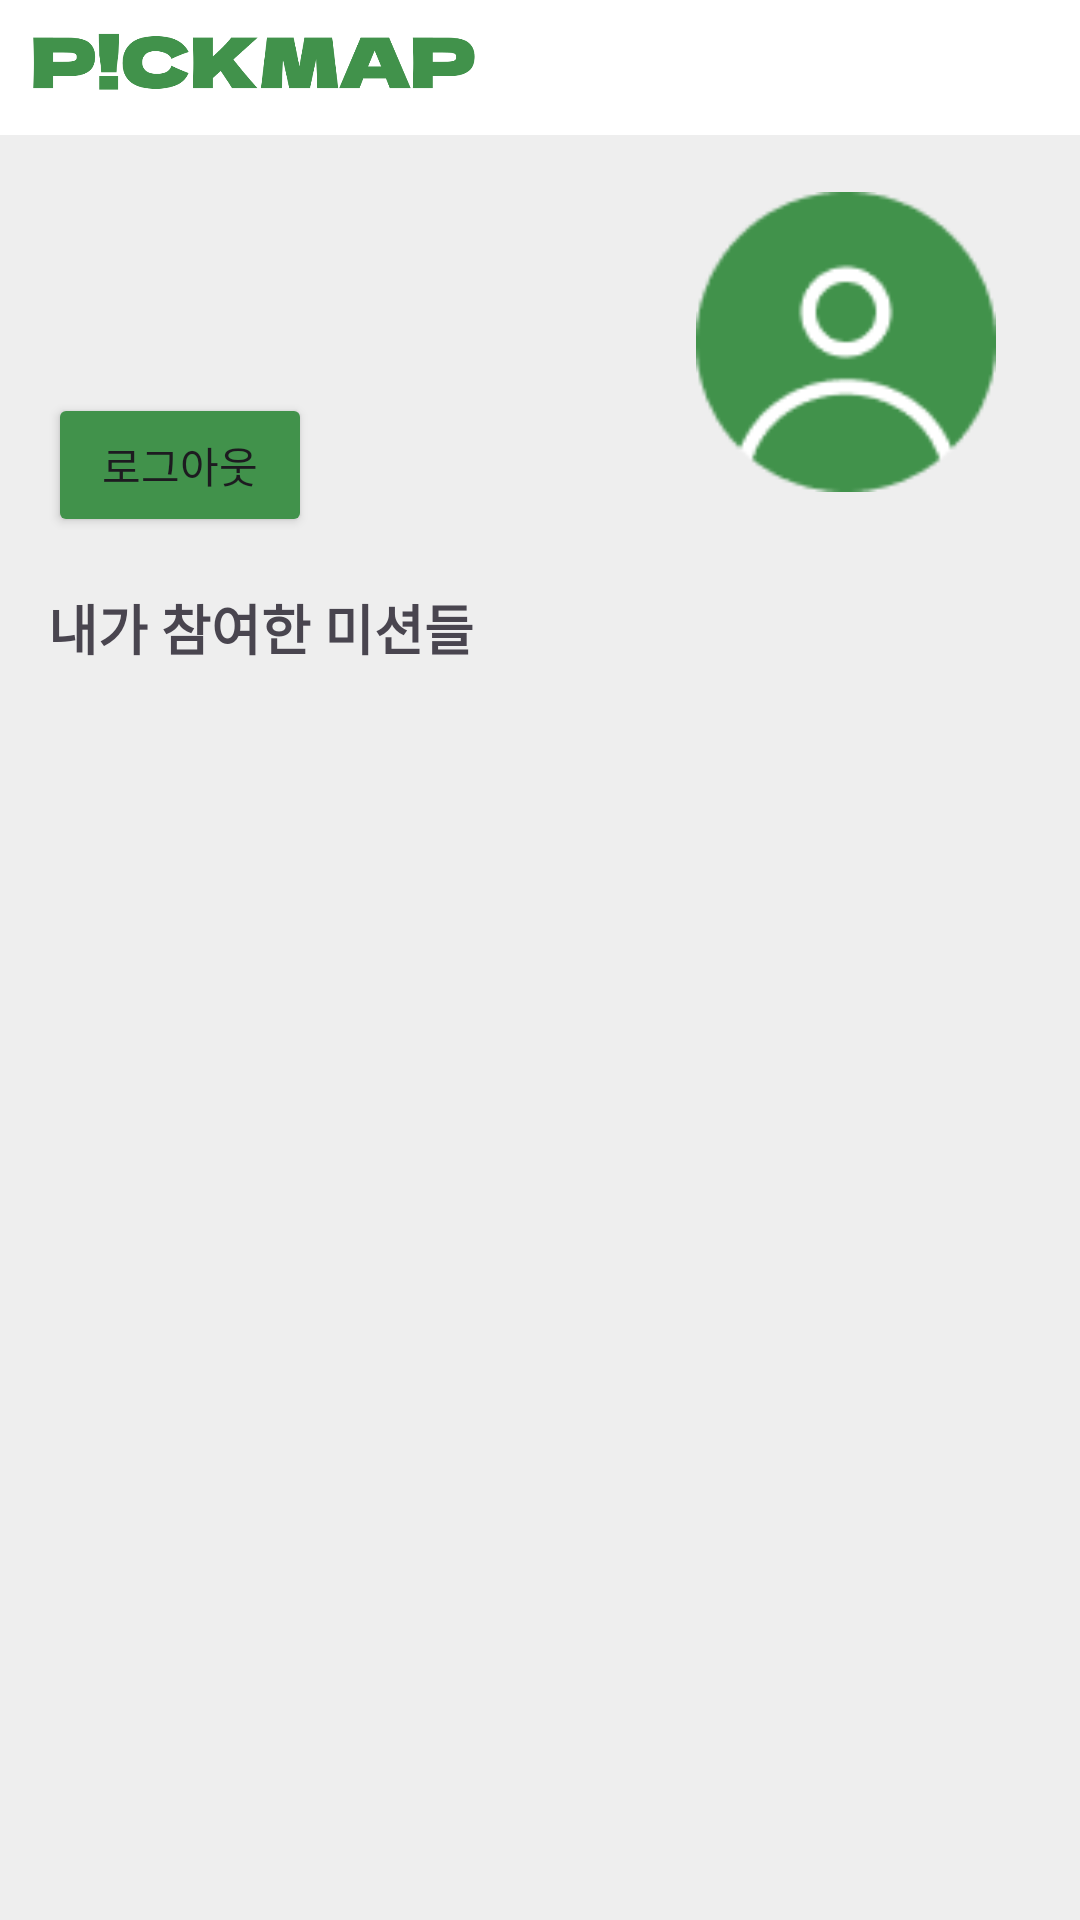

Named icons in this screenshot (1080px×1920px) and their centers, point (x, y):
person: point (846, 342)
